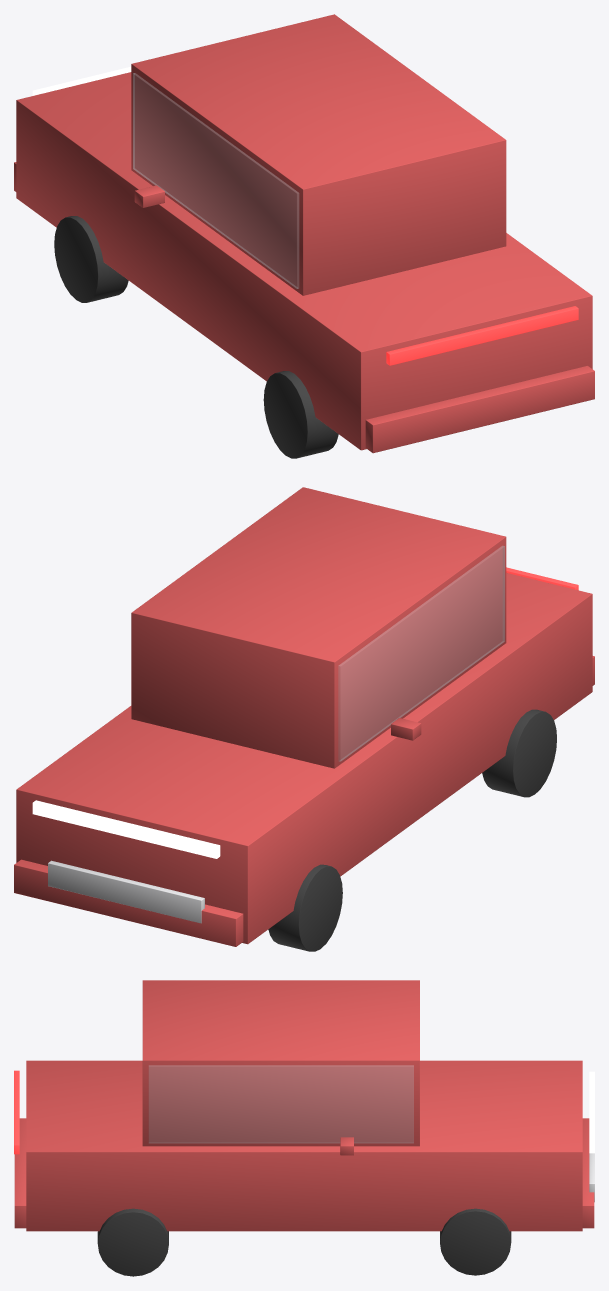
The model's file is vehicle.glb.
The picture shows the model from 3 angles, top to bottom: view 1: azimuth 30°, elevation 25°; view 2: azimuth 150°, elevation 25°; view 3: azimuth 270°, elevation 25°; orthographic projection. The views are drawn at different scales.
Visible parts, largest first — view 1: BODY_Roof, BODY_Main, GLASS_Greenhouse, BODY_Bumpers_Rear, WHEEL_RR_Tire, WHEEL_FR_Tire, LIGHT_Taillights, LIGHT_Headlights; view 2: BODY_Roof, BODY_Main, GLASS_Greenhouse, BODY_Bumpers_Front, BODY_Grille, WHEEL_RR_Tire, WHEEL_FR_Tire, LIGHT_Headlights; view 3: BODY_Main, BODY_Roof, GLASS_Greenhouse, WHEEL_RL_Tire, WHEEL_FL_Tire, BODY_Bumpers_Rear, BODY_Bumpers_Front, LIGHT_Taillights, LIGHT_Headlights.
Part boxes in pixels (bbox=[...]): BODY_Roof: bbox=[131, 14, 506, 295]; BODY_Main: bbox=[16, 72, 592, 450]; GLASS_Greenhouse: bbox=[133, 73, 298, 288]; BODY_Bumpers_Rear: bbox=[365, 366, 594, 453]; WHEEL_RR_Tire: bbox=[263, 371, 338, 458]; WHEEL_FR_Tire: bbox=[54, 216, 128, 302]; LIGHT_Taillights: bbox=[386, 306, 578, 365]; LIGHT_Headlights: bbox=[32, 66, 131, 95]; BODY_Roof: bbox=[131, 487, 506, 768]; BODY_Main: bbox=[16, 573, 592, 944]; GLASS_Greenhouse: bbox=[338, 546, 504, 761]; BODY_Bumpers_Front: bbox=[14, 859, 243, 946]; BODY_Grille: bbox=[48, 860, 204, 923]; WHEEL_RR_Tire: bbox=[482, 709, 556, 797]; WHEEL_FR_Tire: bbox=[268, 864, 342, 951]; LIGHT_Headlights: bbox=[32, 800, 220, 858]; BODY_Main: bbox=[26, 1060, 582, 1231]; BODY_Roof: bbox=[142, 980, 419, 1146]; GLASS_Greenhouse: bbox=[149, 1065, 413, 1143]; WHEEL_RL_Tire: bbox=[97, 1208, 168, 1276]; WHEEL_FL_Tire: bbox=[440, 1208, 511, 1275]; BODY_Bumpers_Rear: bbox=[14, 1118, 26, 1228]; BODY_Bumpers_Front: bbox=[582, 1118, 594, 1228]; LIGHT_Taillights: bbox=[14, 1070, 19, 1154]; LIGHT_Headlights: bbox=[589, 1071, 594, 1153].
Bounding box in the file's own units: 2.26 × 1.99 × 5.06.
